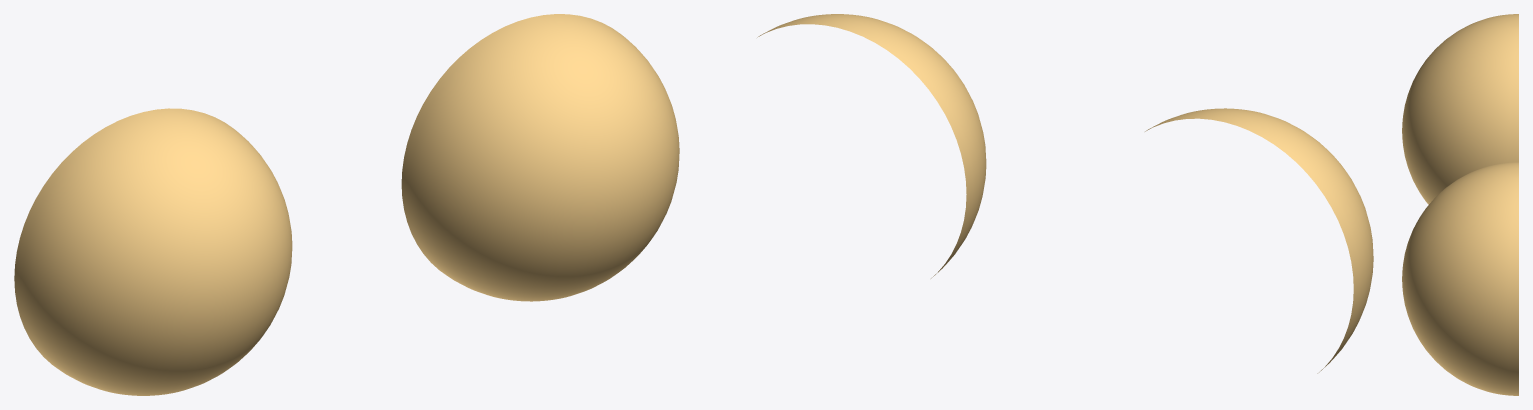
The model's file is AnisotropyTextures.gltf.
The picture shows the model from 3 angles, left to right: view 1: azimuth 30°, elevation 25°; view 2: azimuth 150°, elevation 25°; view 3: azimuth 270°, elevation 25°; orthographic projection. The views are drawn at different scales.
Size of the model in its own units: 5 by 2 by 1.
